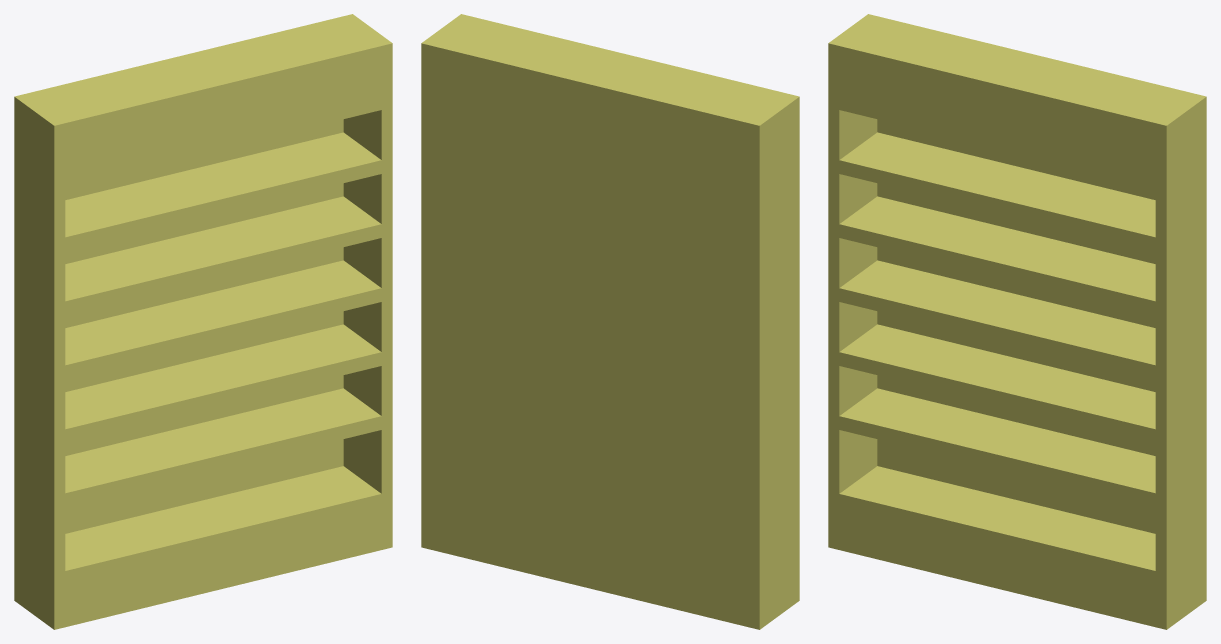
Rendered from blockout_Closet_Big.fbx.
3 views of the same model, side by side, from view 1: azimuth 30°, elevation 25°; view 2: azimuth 150°, elevation 25°; view 3: azimuth 330°, elevation 25° (orthographic).
Parts seen in each view (by area): view 1: blockout_Big_Closet; view 2: blockout_Big_Closet; view 3: blockout_Big_Closet.
Boxes of the visible parts, x1,y1,x2,y2 form: blockout_Big_Closet: (14,14,392,629); blockout_Big_Closet: (421,14,799,629); blockout_Big_Closet: (828,14,1206,629).
Size of the model in its own units: 105 by 150 by 21.57.
1 material, 1 textured.
